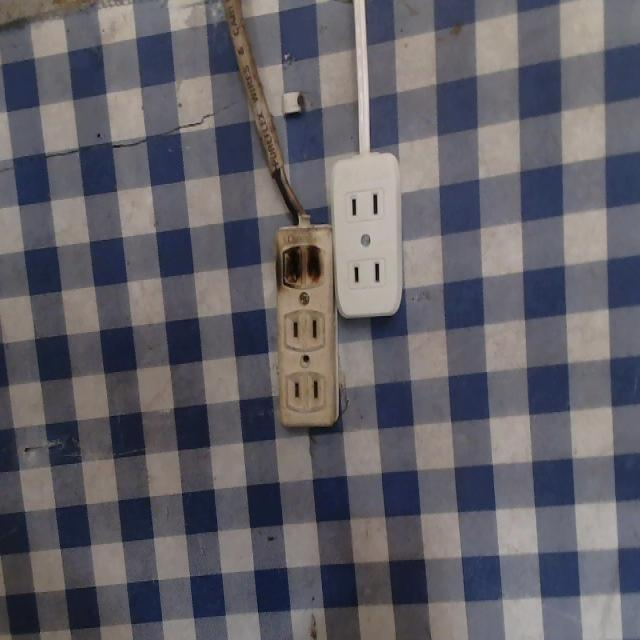-: (272, 237, 331, 295)
